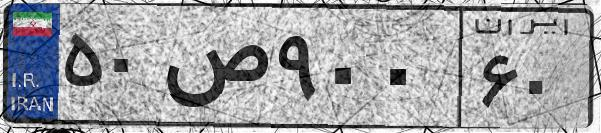0: (385, 28, 445, 110), (330, 28, 385, 110), (525, 38, 570, 115), (110, 28, 158, 98)
5: (57, 26, 110, 100)
6: (475, 38, 525, 113)
9: (270, 28, 330, 110)
ص: (158, 20, 270, 120)
